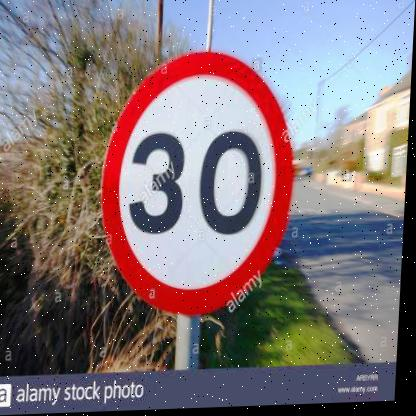Speed Limit -30-: (95, 46, 301, 321)
